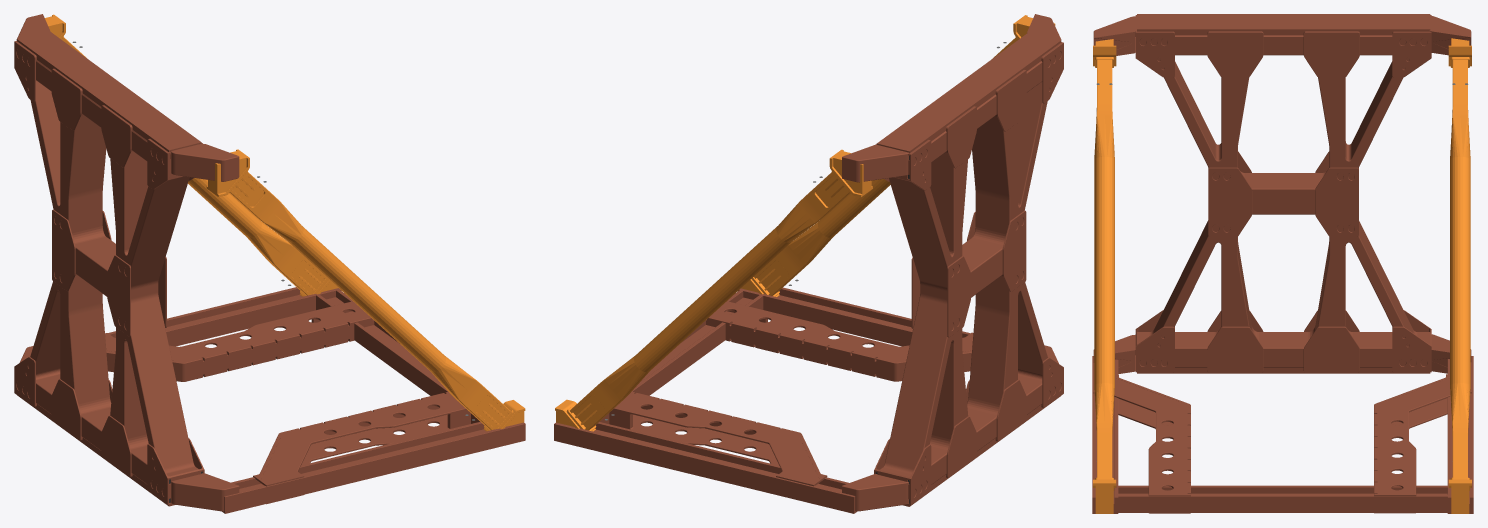
Rendered from SlopeBlock.obj.
3 views of the same model, side by side, from view 1: azimuth 30°, elevation 25°; view 2: azimuth 150°, elevation 25°; view 3: azimuth 270°, elevation 25° (orthographic). The views are drawn at different scales.
Parts seen in each view (by area): view 1: Component#455.040, Component#141, Component#122.001, Component#797.002, Component#797.004, Component#141.001, Component#141.002, Component#122.002, Component#797.005, Component#86.002, Component#86.016, Component#797.003 (+4 smaller); view 2: Component#455.040, Component#141.001, Component#122.002, Component#797.004, Component#797.002, Component#141, Component#141.002, Component#122.001, Component#797.003, Component#86.008, Component#797.005, Component#86.010 (+4 smaller); view 3: Component#455.040, Component#141.002, Component#122.001, Component#122.002, Component#797.002, Component#797.004, Component#141.001, Component#141, Component#86.002, Component#86.008, Component#797.003, Component#86.016 (+2 smaller).
Boxes of the visible parts, bbox=[...] form: Component#455.040: bbox=[14, 31, 204, 506]; Component#141: bbox=[222, 421, 525, 513]; Component#122.001: bbox=[246, 192, 487, 410]; Component#797.002: bbox=[105, 301, 374, 372]; Component#797.004: bbox=[253, 391, 470, 486]; Component#141.001: bbox=[108, 287, 341, 346]; Component#141.002: bbox=[316, 289, 479, 423]; Component#122.002: bbox=[85, 57, 302, 276]; Component#797.005: bbox=[266, 406, 470, 504]; Component#86.002: bbox=[170, 144, 239, 181]; Component#86.016: bbox=[171, 473, 239, 511]; Component#797.003: bbox=[107, 321, 354, 381]; Component#455.040: bbox=[874, 32, 1063, 506]; Component#141.001: bbox=[554, 422, 857, 513]; Component#122.002: bbox=[592, 192, 832, 410]; Component#797.004: bbox=[706, 301, 973, 372]; Component#797.002: bbox=[609, 391, 827, 486]; Component#141: bbox=[738, 287, 970, 346]; Component#141.002: bbox=[599, 290, 763, 423]; Component#122.001: bbox=[776, 57, 994, 276]; Component#797.003: bbox=[609, 406, 778, 465]; Component#86.008: bbox=[842, 144, 909, 182]; Component#797.005: bbox=[725, 320, 970, 381]; Component#86.010: bbox=[842, 474, 908, 511]; Component#455.040: bbox=[1135, 14, 1431, 373]; Component#141.002: bbox=[1118, 485, 1447, 512]; Component#122.001: bbox=[1094, 95, 1114, 441]; Component#122.002: bbox=[1450, 95, 1470, 441]; Component#797.002: bbox=[1374, 374, 1471, 496]; Component#797.004: bbox=[1093, 374, 1190, 496]; Component#141.001: bbox=[1447, 356, 1473, 513]; Component#141: bbox=[1092, 356, 1118, 513]; Component#86.002: bbox=[1093, 16, 1136, 55]; Component#86.008: bbox=[1429, 15, 1471, 55]; Component#797.003: bbox=[1374, 398, 1447, 513]; Component#86.016: bbox=[1093, 334, 1135, 373].
Size of the model in its own units: 6.22 by 6.3 by 6.33.
